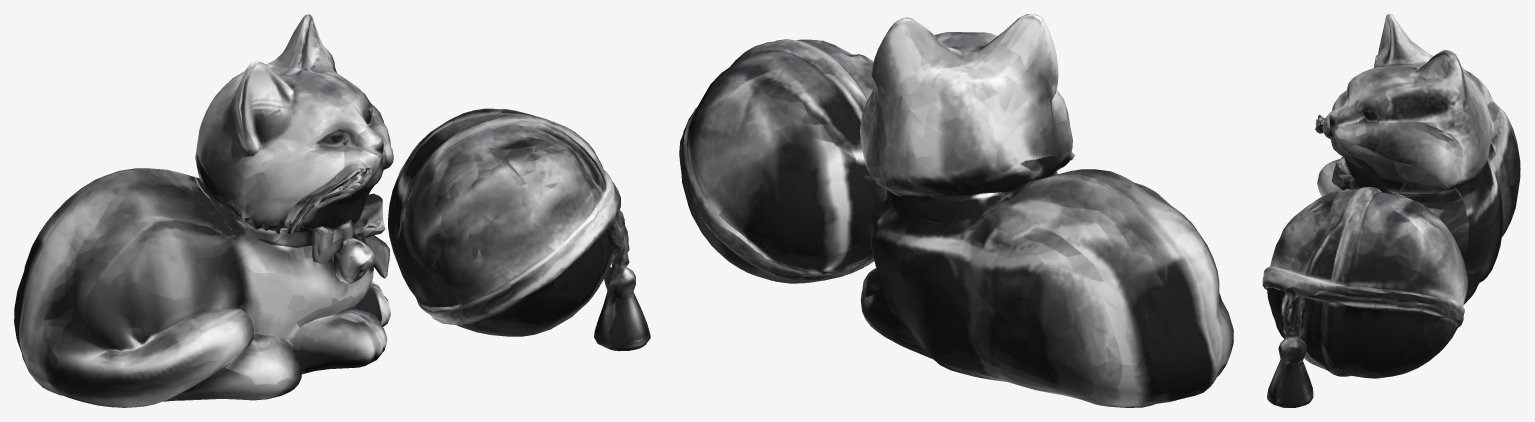
File: cat-ball-silver.glb
The picture shows the model from 3 angles, left to right: view 1: azimuth 30°, elevation 25°; view 2: azimuth 150°, elevation 25°; view 3: azimuth 270°, elevation 25°; orthographic projection. The views are drawn at different scales.
Parts seen in each view (by area): view 1: geometry_0; view 2: geometry_0; view 3: geometry_0.
Part boxes in pixels (<box>): geometry_0: <box>14,14,650,407</box>; geometry_0: <box>679,14,1233,407</box>; geometry_0: <box>1262,14,1520,407</box>.
Size of the model in its own units: 0.12 by 0.067 by 0.0598.
1 material, 1 textured.
